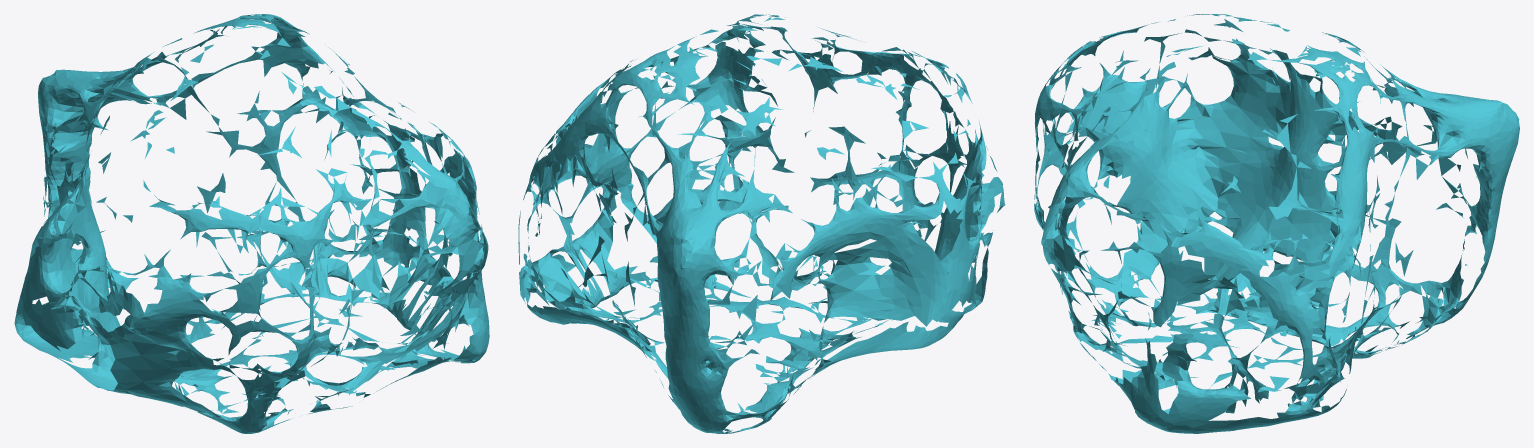
3 views of the same model, side by side, from view 1: azimuth 30°, elevation 25°; view 2: azimuth 150°, elevation 25°; view 3: azimuth 270°, elevation 25° (orthographic). The views are drawn at different scales.
Parts seen in each view (by area): view 1: Renderer Node; view 2: Renderer Node; view 3: Renderer Node.
Part boxes in pixels (<box>): Renderer Node: <box>14,14,489,433</box>; Renderer Node: <box>518,14,1005,433</box>; Renderer Node: <box>1034,14,1519,433</box>.
Bounding box in the file's own units: 0.7605 × 0.5848 × 0.7744.
Materials: 1 (1 with a texture image).
